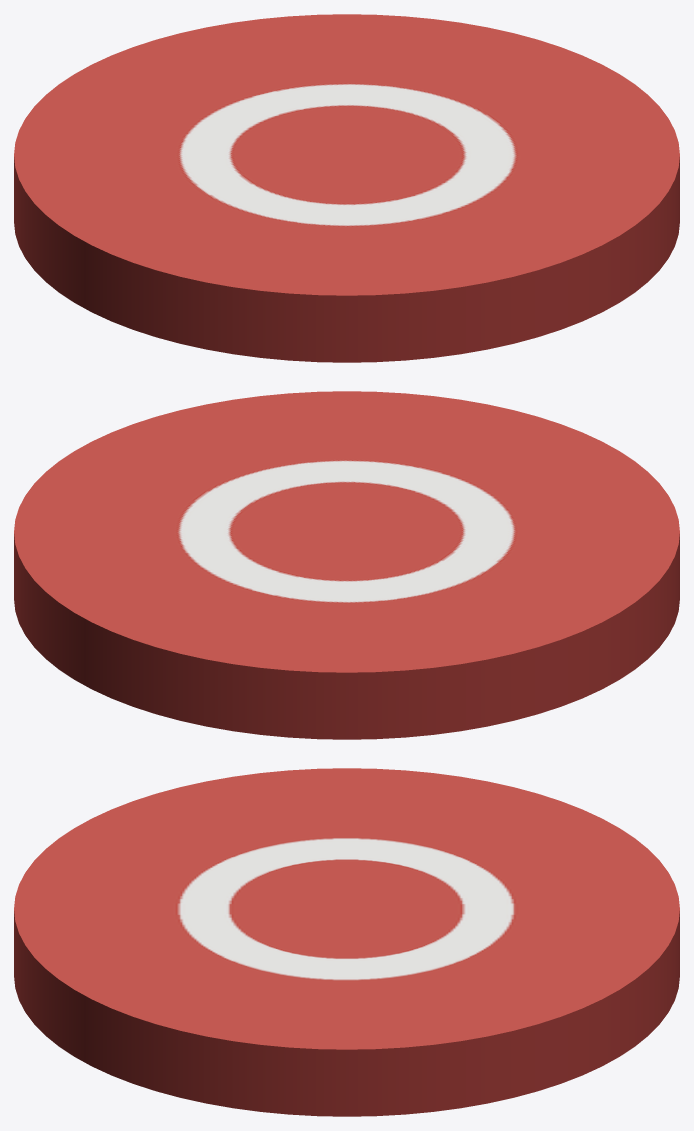
Rendered from stroke_circle.glb.
3 renders of one model, top to bottom at view 1: azimuth 30°, elevation 25°; view 2: azimuth 150°, elevation 25°; view 3: azimuth 270°, elevation 25°, orthographic.
Parts seen in each view (by area): view 1: stroke_circle; view 2: stroke_circle; view 3: stroke_circle.
Part boxes in pixels (box(x1,y1,x2,y2)): stroke_circle: box(14, 14, 679, 362); stroke_circle: box(14, 391, 679, 739); stroke_circle: box(14, 768, 679, 1116).
Size of the model in its own units: 0.036 by 0.004 by 0.036.
Materials: 2 (1 with a texture image).
